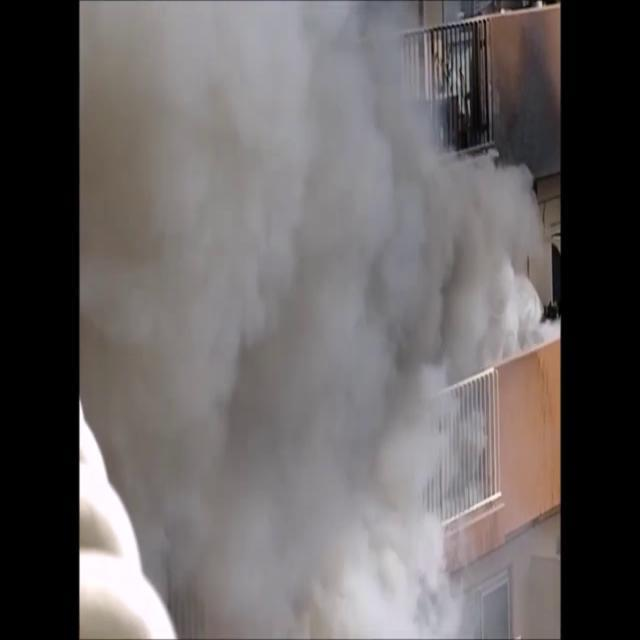Smoke: (85, 1, 543, 636)
